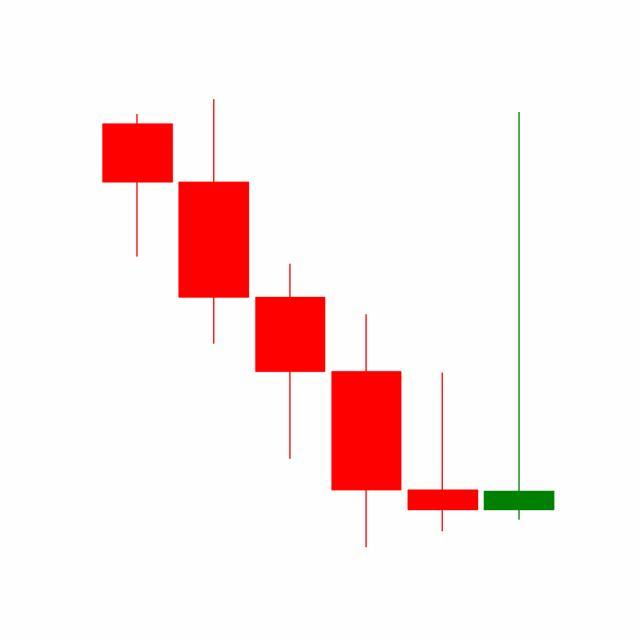Spinning Top: (404, 371, 482, 535)
